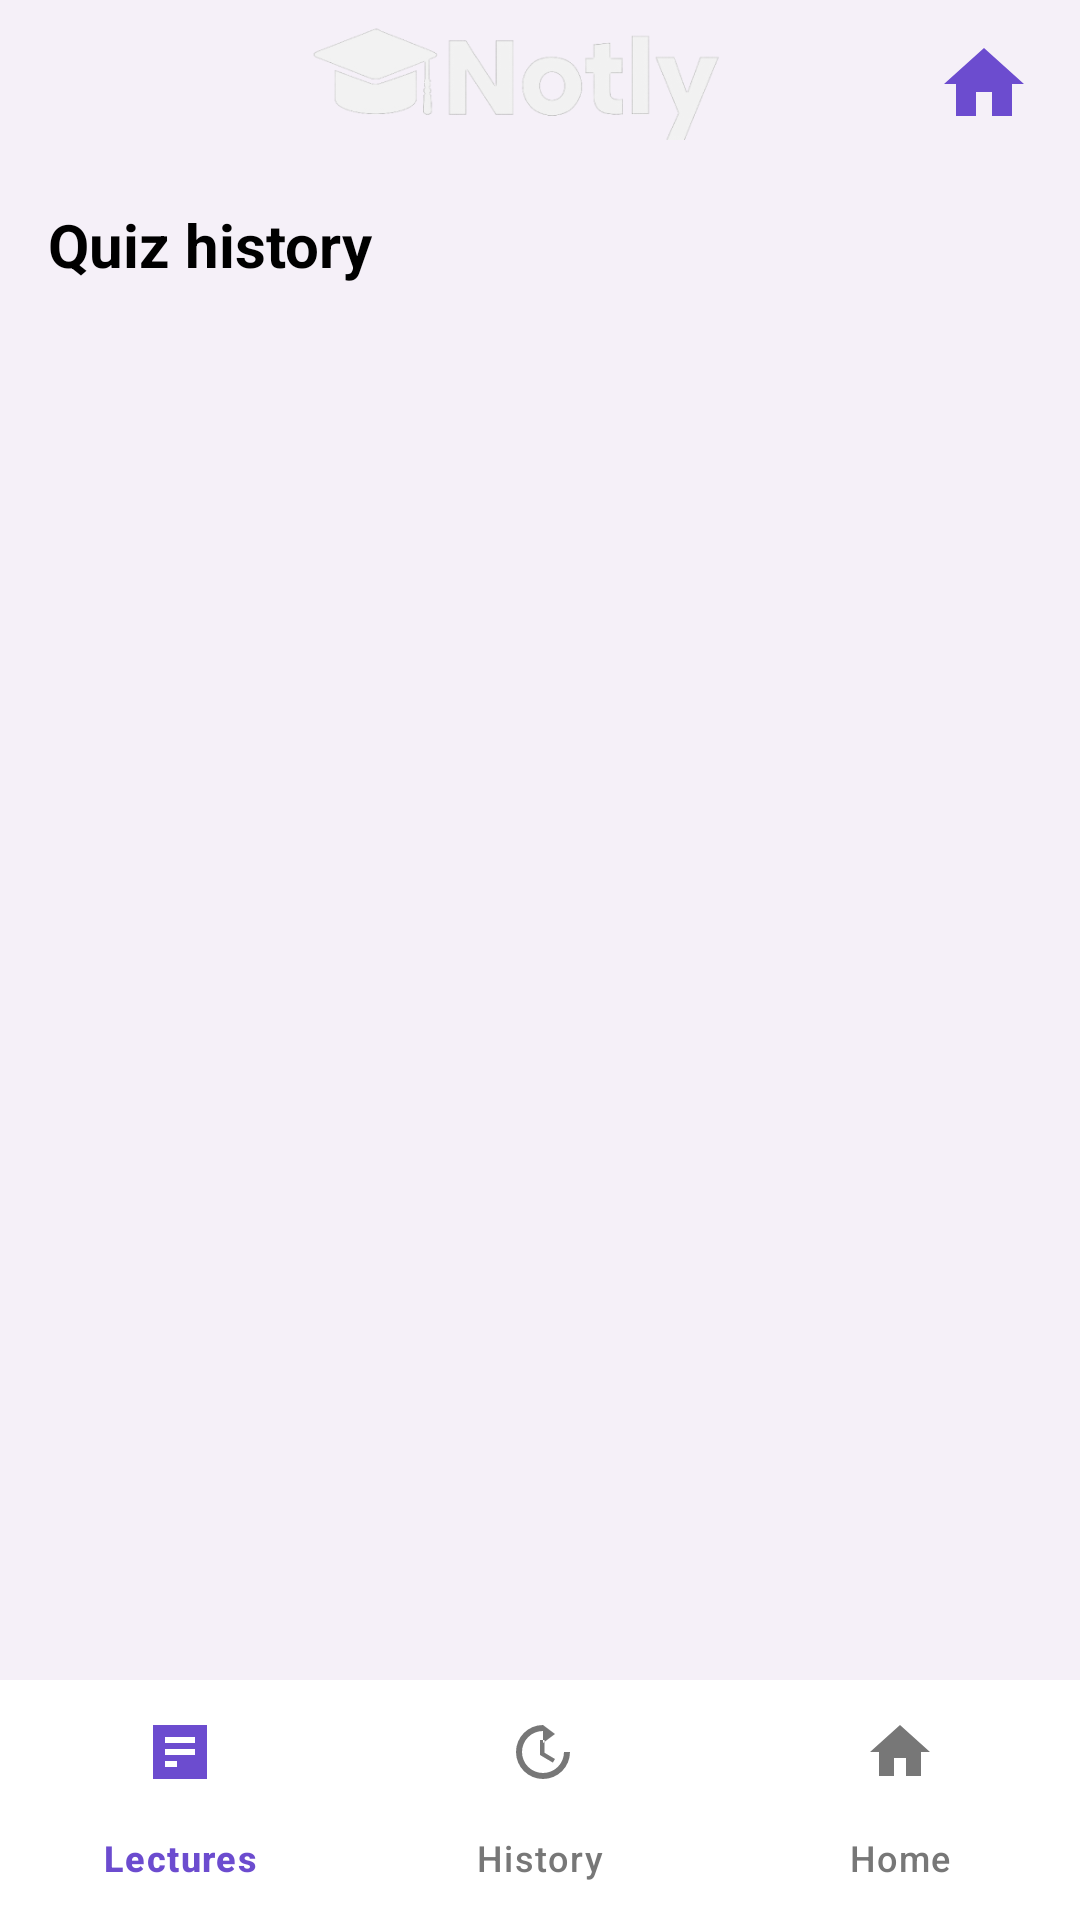

Locate icon controls on the screen. Image size 1080 × 1920, boxes as [left=x1, top=y1, right=x2, bottom=y2].
Home: [left=944, top=48, right=1024, bottom=116]
